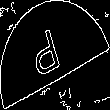P_S: (36, 24, 74, 86)
